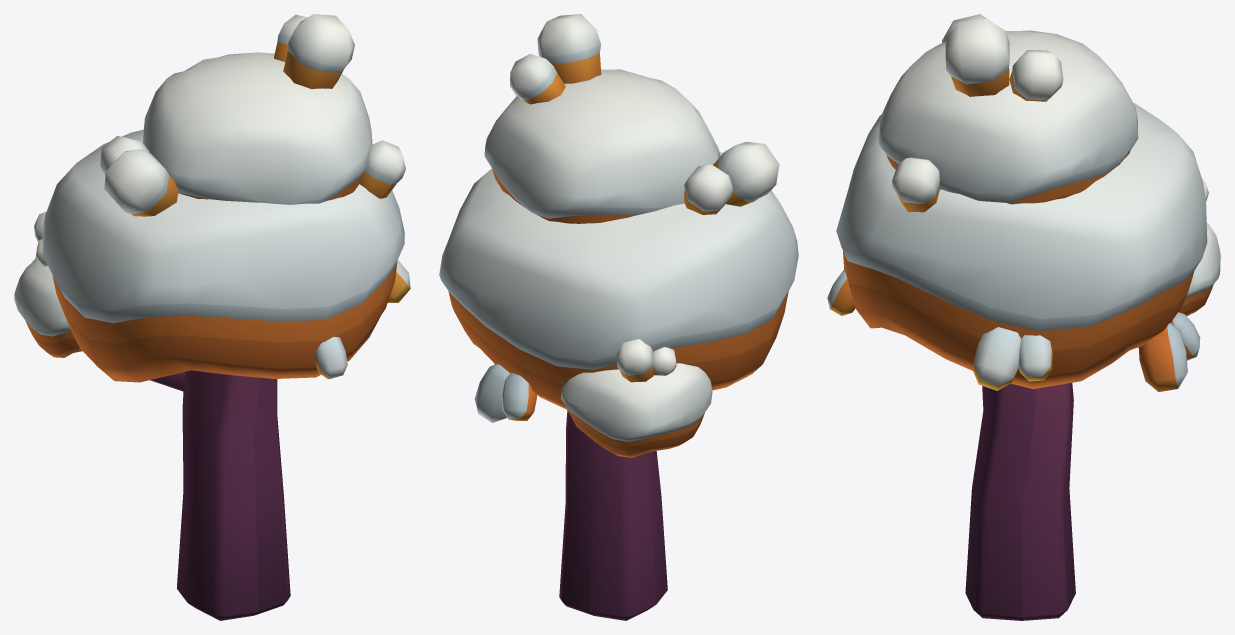
The model's file is grassland_tree_col2_3_snow.fbx.
The picture shows the model from 3 angles, left to right: view 1: azimuth 30°, elevation 25°; view 2: azimuth 150°, elevation 25°; view 3: azimuth 270°, elevation 25°; orthographic projection. The views are drawn at different scales.
Parts seen in each view (by area): view 1: grassland_tree_col2_3_snow; view 2: grassland_tree_col2_3_snow; view 3: grassland_tree_col2_3_snow.
Boxes of the visible parts, x1,y1,x2,y2 form: grassland_tree_col2_3_snow: (14,14,410,620); grassland_tree_col2_3_snow: (439,14,798,620); grassland_tree_col2_3_snow: (827,14,1220,620).
Size of the model in its own units: 466 by 797 by 461.
Materials: 1 (1 with a texture image).
